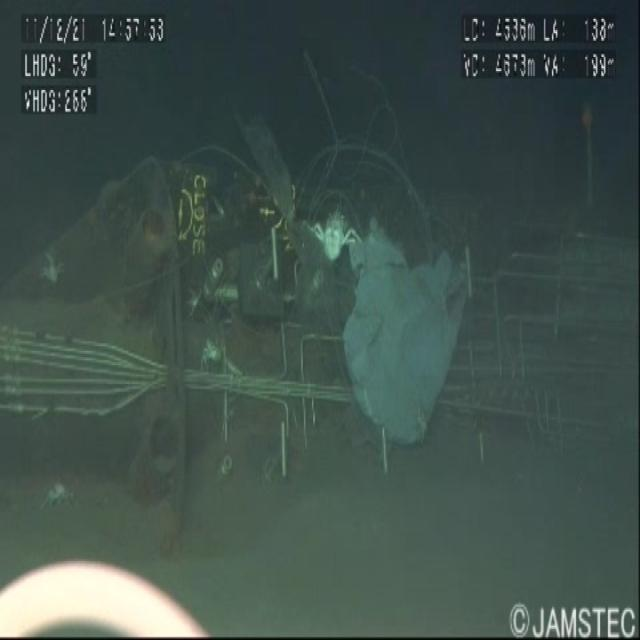Metal: (1, 152, 640, 496)
Plastic: (339, 218, 477, 446)
